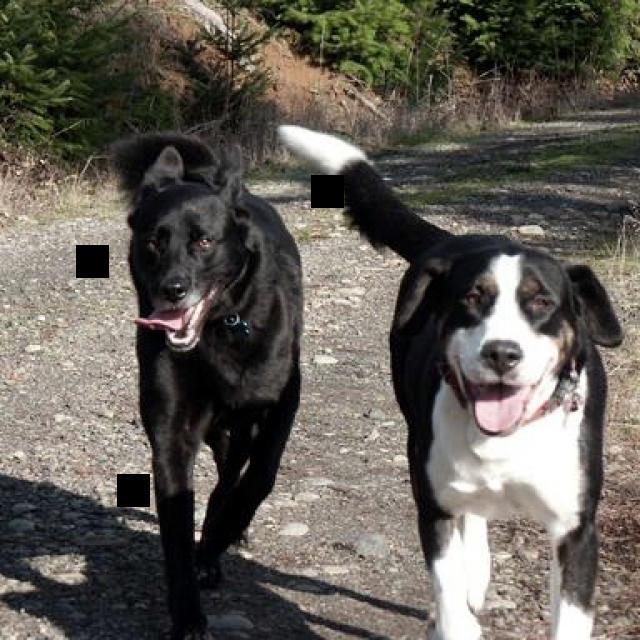adult_dog: (278, 123, 626, 640), (108, 130, 305, 636)
